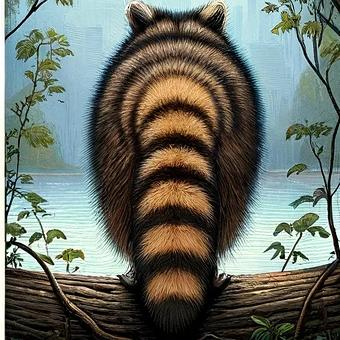raccoon: (71, 1, 283, 340)
